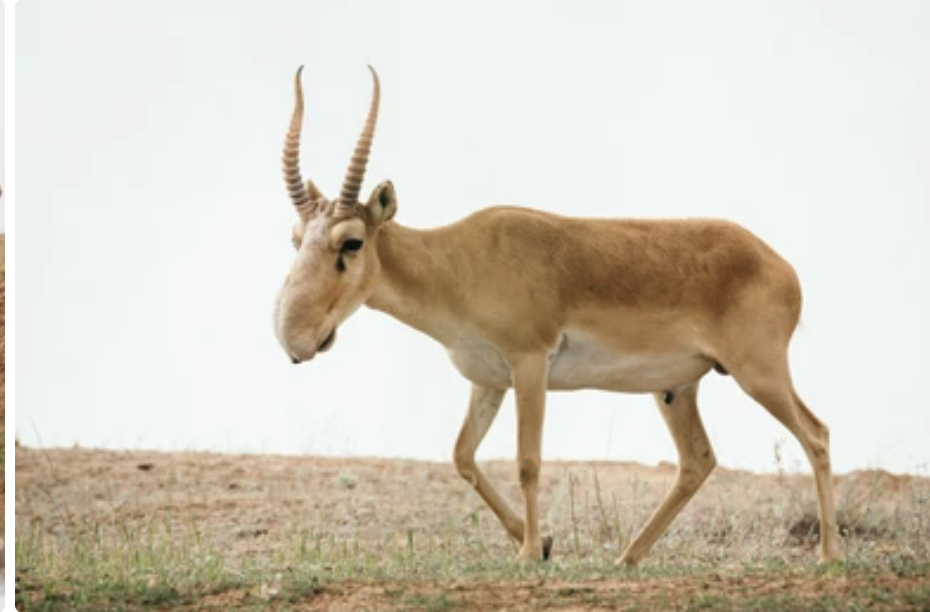saiga: (263, 57, 849, 561)
